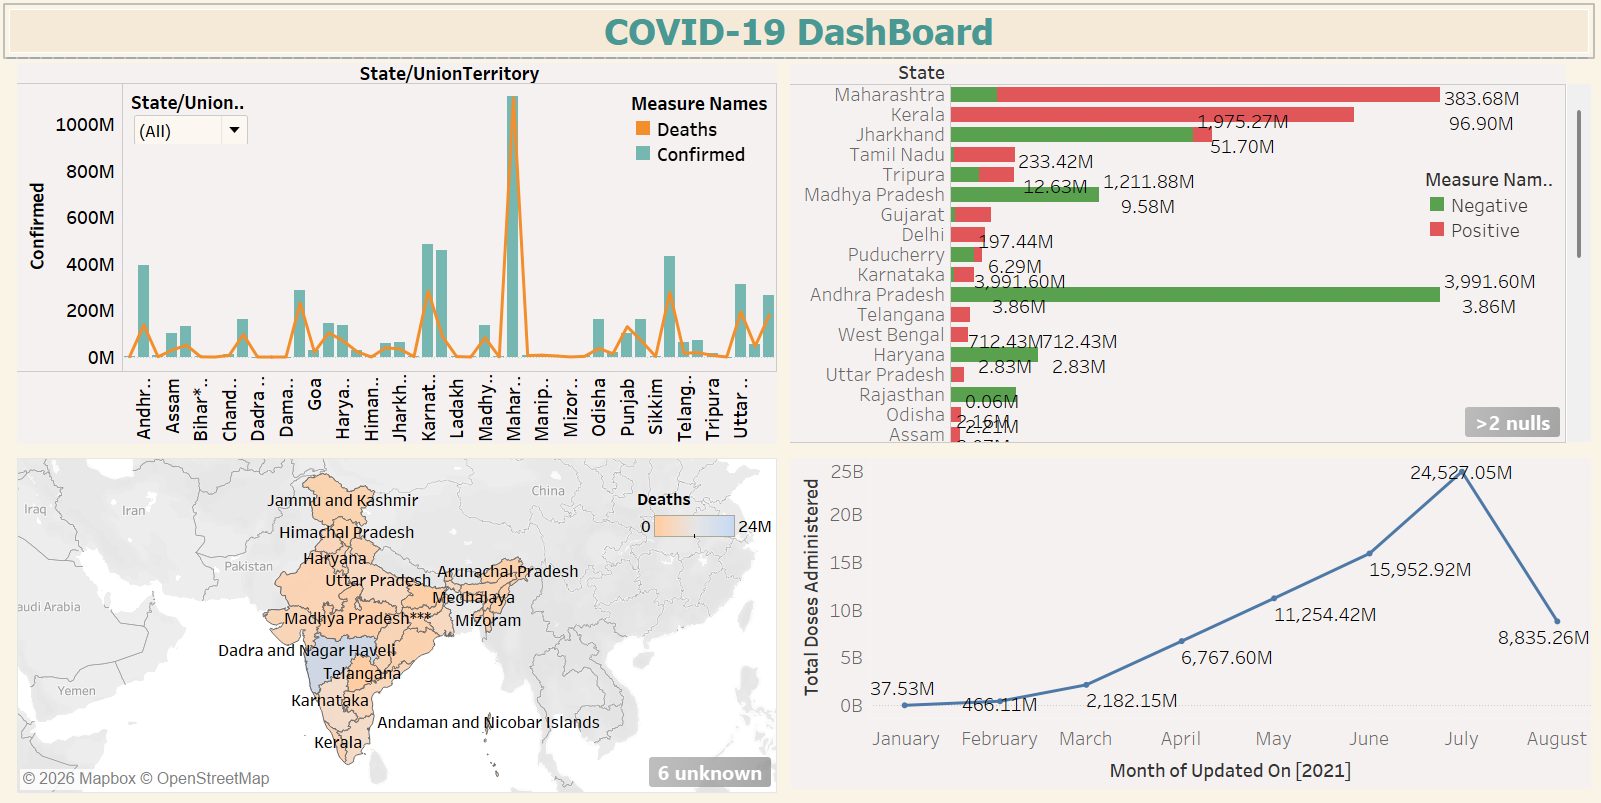

The page's visual inventory and layout, read from the dashboard file:
{"tool":"tableau","page":{"name":"Dashboard 1","canvas":[1000,1000],"units":"permille","ordinal":0},"visuals":[{"type":"title","box":[5,9.9,990,64.5]},{"type":"worksheet","title":"Cases and Death","mark":"Automatic","rows":["Confirmed","Deaths"],"cols":["State/UnionTerritory"],"box":[12.5,81.9,473.8,472.7]},{"type":"worksheet","title":"Testing Details","mark":"Bar","rows":["State"],"cols":["Positive","Negative"],"box":[494.4,83.1,499.4,470.2]},{"type":"filter","title":"Cases and Death","param":"[federated.1leoxlj0nhqhsi18or5my1ymutx0].[none:State/UnionTerritory:nk]","box":[83.5,114.1,74.8,68.2]},{"type":"legend","title":"Cases and Death","param":"[federated.1leoxlj0nhqhsi18or5my1ymutx0].[:Measure Names]","box":[395.3,115.4,87.3,94.3]},{"type":"legend","title":"Testing Details","param":"[federated.1p7ndlq0omtmiy14a97xs1ucg8aw].[:Measure Names]","box":[890.3,209.7,82.9,94.3]},{"type":"worksheet","title":"State Wise Deaths","mark":"Automatic","box":[12.5,572,473.8,415.6]},{"type":"worksheet","title":"Vaccination","mark":"Automatic","rows":["Total Doses Administered"],"cols":["Updated On"],"box":[495,572,498.8,410.7]},{"type":"legend","title":"State Wise Deaths","param":"[federated.1leoxlj0nhqhsi18or5my1ymutx0].[sum:Deaths:qk]","box":[399,609.2,87.3,112.9]}]}

Visuals, with their boxes on the dashboard's canvas, which has no fixed pixel size, in thousandths of its width and height (x1, y1, x2, y2). These are canvas units, not pixel positions in the 1601x803 screenshot, which may show the page scaled, cropped or inside an application window:
title: <region>5, 10, 995, 74</region>
"Cases and Death" worksheet: <region>12, 82, 486, 555</region>
"Testing Details" worksheet (Bar marks): <region>494, 83, 994, 553</region>
"Cases and Death" filter: <region>84, 114, 158, 182</region>
"Cases and Death" legend: <region>395, 115, 483, 210</region>
"Testing Details" legend: <region>890, 210, 973, 304</region>
"State Wise Deaths" worksheet: <region>12, 572, 486, 988</region>
"Vaccination" worksheet: <region>495, 572, 994, 983</region>
"State Wise Deaths" legend: <region>399, 609, 486, 722</region>
